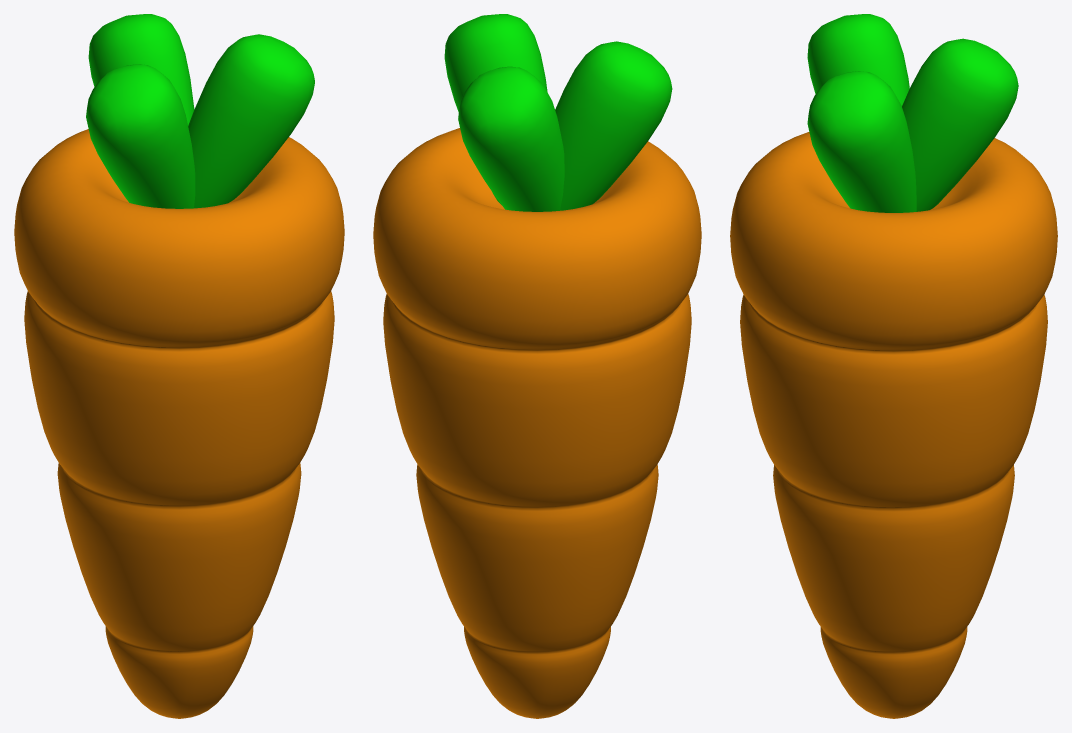
Rendered from carrot.glb.
3 views of the same model, side by side, from view 1: azimuth 30°, elevation 25°; view 2: azimuth 150°, elevation 25°; view 3: azimuth 270°, elevation 25° (orthographic).
Parts seen in each view (by area): view 1: Cylinder, Cylinder.003, Cylinder.001; view 2: Cylinder, Cylinder.003, Cylinder.001; view 3: Cylinder, Cylinder.003, Cylinder.001.
Boxes of the visible parts, bbox=[...] form: Cylinder: bbox=[14, 129, 344, 718]; Cylinder.003: bbox=[86, 34, 314, 208]; Cylinder.001: bbox=[88, 14, 194, 125]; Cylinder: bbox=[373, 128, 701, 718]; Cylinder.003: bbox=[444, 14, 672, 210]; Cylinder.001: bbox=[458, 66, 564, 211]; Cylinder: bbox=[730, 132, 1057, 718]; Cylinder.003: bbox=[807, 14, 916, 212]; Cylinder.001: bbox=[902, 38, 1018, 211].
Bounding box in the file's own units: 1.28 × 2.88 × 1.28.
